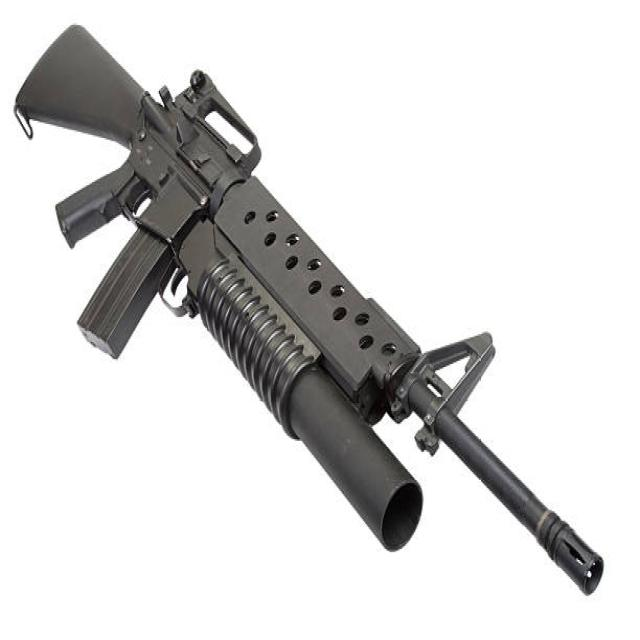rifle: (15, 18, 617, 608)
